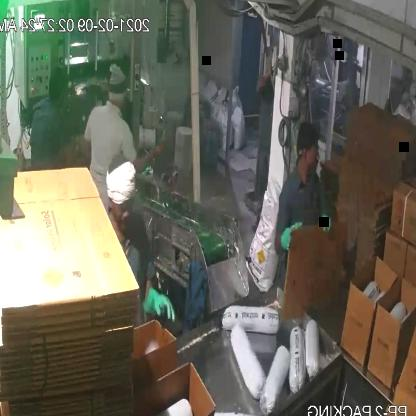glove: (142, 281, 178, 331), (277, 217, 303, 252), (316, 207, 336, 238)
no_glove: (128, 135, 166, 176), (257, 61, 276, 95)
